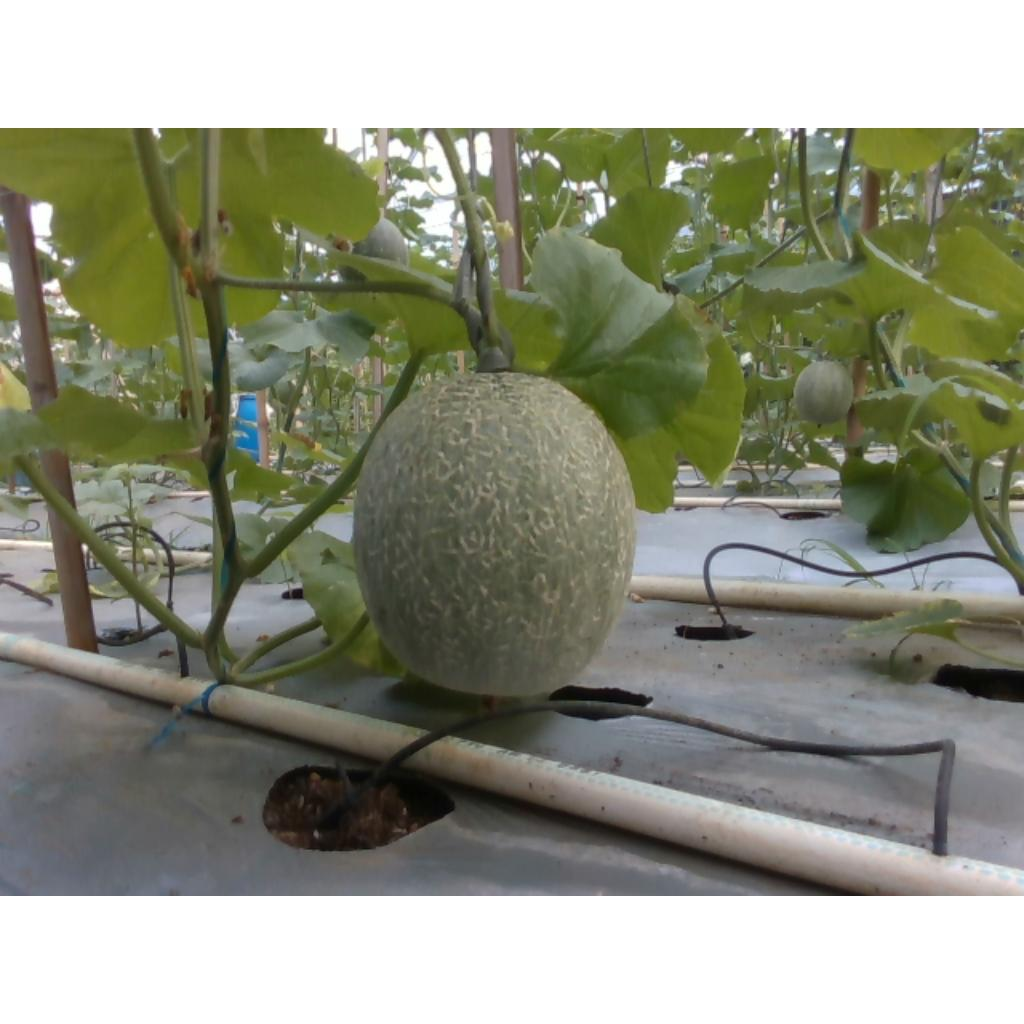melon: (355, 373, 635, 697)
